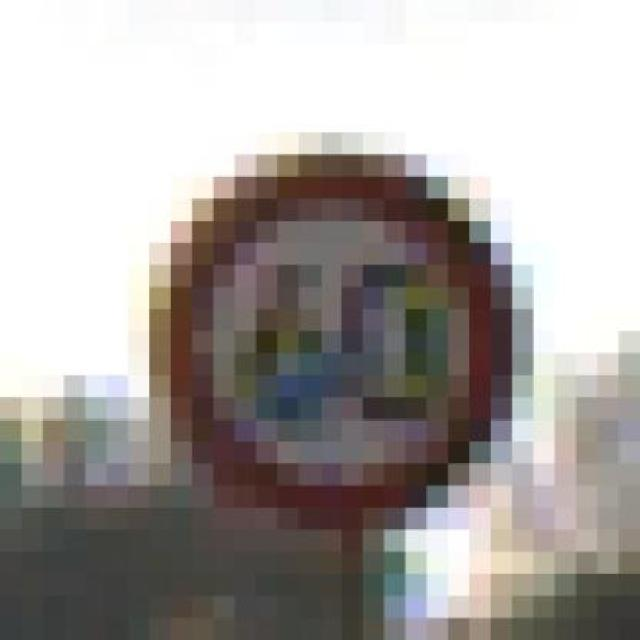forb_speed_over_60: (165, 157, 511, 518)
